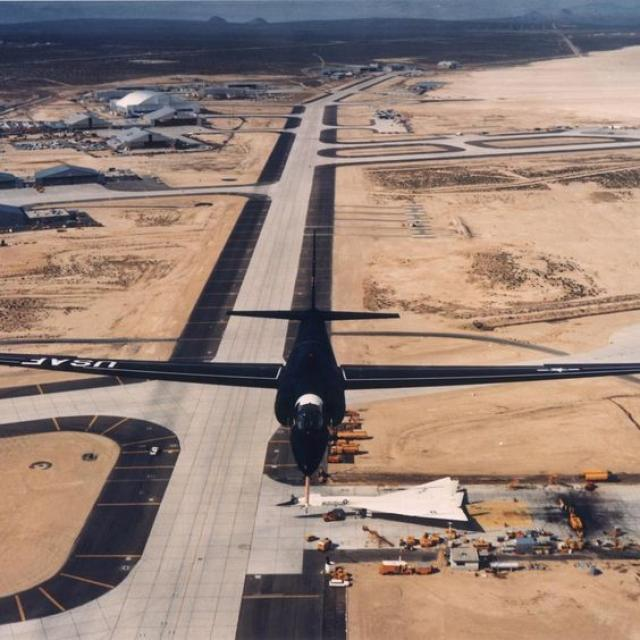MIL_Plane: (1, 228, 640, 514), (266, 475, 469, 522)
